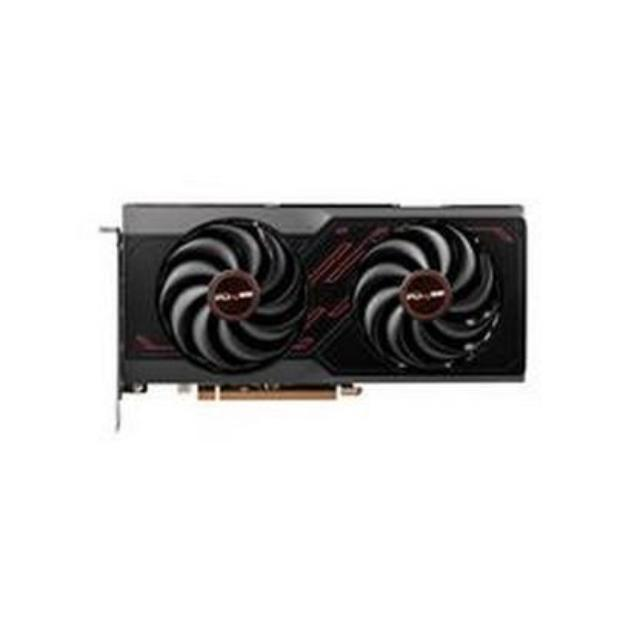GPU: (110, 200, 532, 395)
